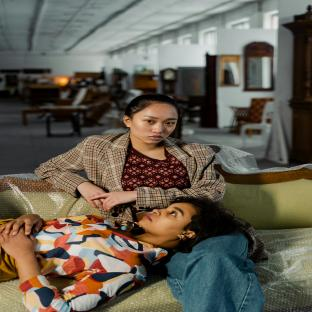Human: (0, 197, 237, 312), (35, 94, 226, 221), (163, 217, 268, 312)
